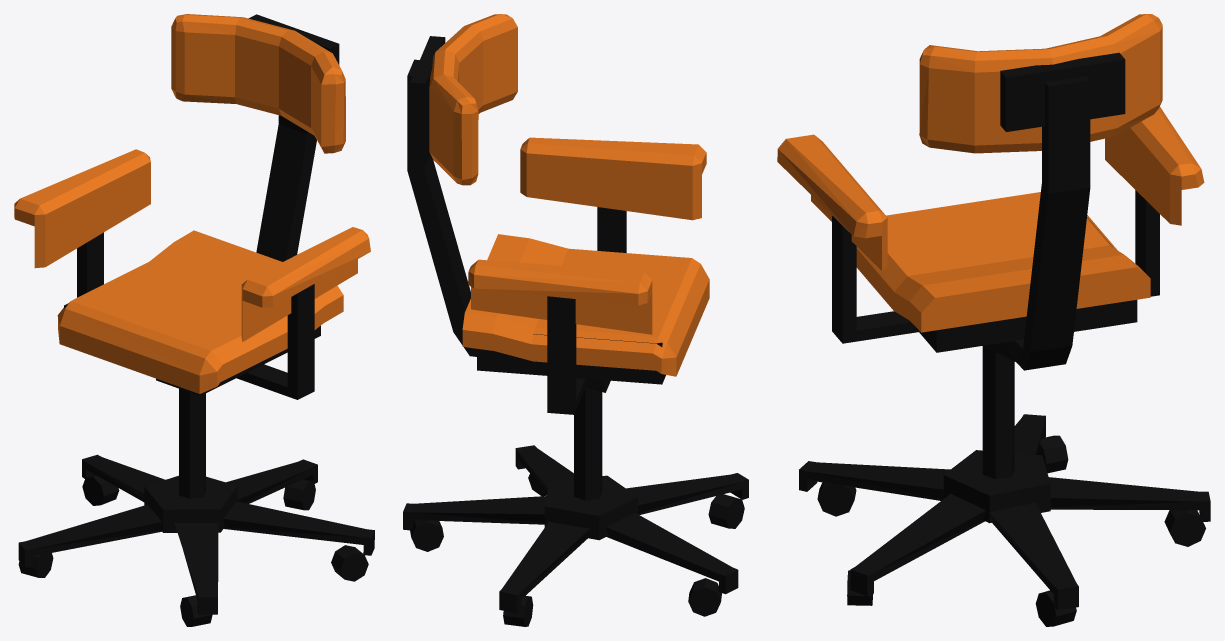
The model's file is chair.glb.
3 views of the same model, side by side, from view 1: azimuth 30°, elevation 25°; view 2: azimuth 150°, elevation 25°; view 3: azimuth 270°, elevation 25° (orthographic). The views are drawn at different scales.
Parts seen in each view (by area): view 1: polySurface576_cloth_0, polySurface576_metal_0; view 2: polySurface576_cloth_0, polySurface576_metal_0; view 3: polySurface576_metal_0, polySurface576_cloth_0.
Part boxes in pixels (x1,y1,x2,y2): polySurface576_cloth_0: [14, 14, 370, 393]; polySurface576_metal_0: [18, 14, 374, 626]; polySurface576_cloth_0: [429, 14, 709, 376]; polySurface576_metal_0: [403, 36, 748, 626]; polySurface576_metal_0: [799, 52, 1210, 626]; polySurface576_cloth_0: [777, 14, 1204, 332].
Size of the model in its own units: 1.86 by 2.8 by 1.94.
